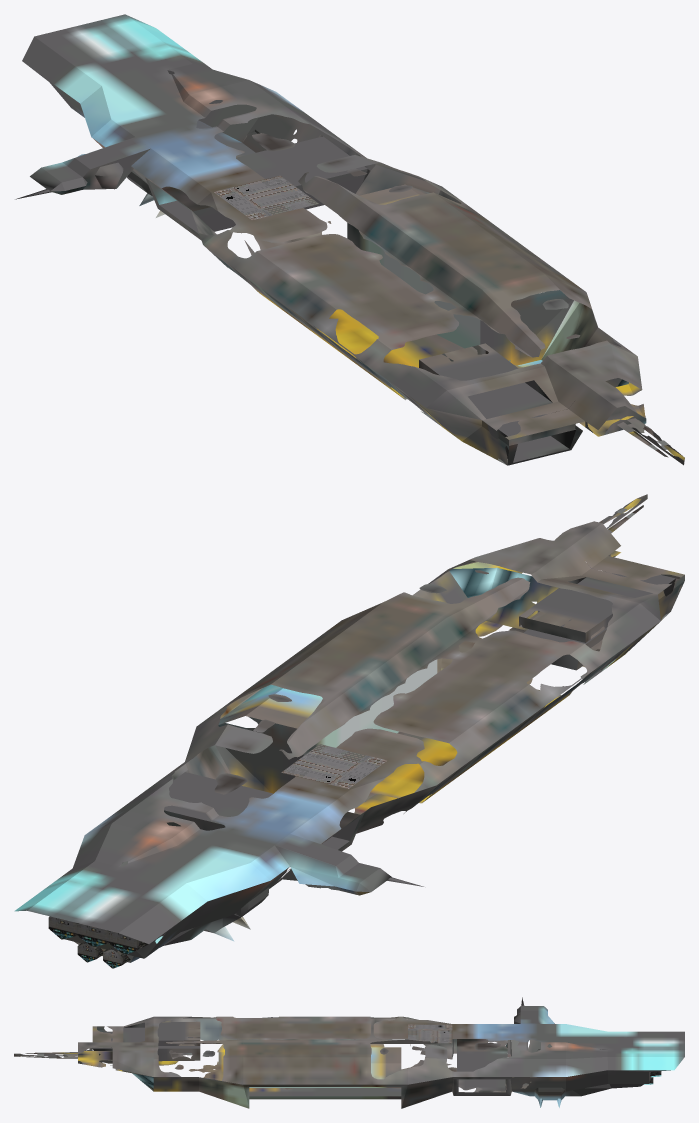
The model's file is LOD2-UVFlip.obj.
3 renders of one model, top to bottom at view 1: azimuth 30°, elevation 25°; view 2: azimuth 150°, elevation 25°; view 3: azimuth 270°, elevation 25°, orthographic. The views are drawn at different scales.
Visible parts, largest first — view 1: hw2Shader, Hgn_Carrier_Badge; view 2: hw2Shader, Hgn_Carrier_Badge, Hgn_Carrier_Engine_TEX; view 3: hw2Shader, Hgn_Carrier_Badge.
Boxes of the visible parts, x1=… form: hw2Shader: x1=15, y1=14, x2=684, y2=465; Hgn_Carrier_Badge: x1=214, y1=175, x2=318, y2=220; hw2Shader: x1=14, y1=494, x2=684, y2=962; Hgn_Carrier_Badge: x1=281, y1=744, x2=387, y2=788; Hgn_Carrier_Engine_TEX: x1=48, y1=916, x2=137, y2=968; hw2Shader: x1=14, y1=997, x2=684, y2=1108; Hgn_Carrier_Badge: x1=408, y1=1024, x2=452, y2=1043.
Size of the model in its own units: 248 by 74.66 by 770.
